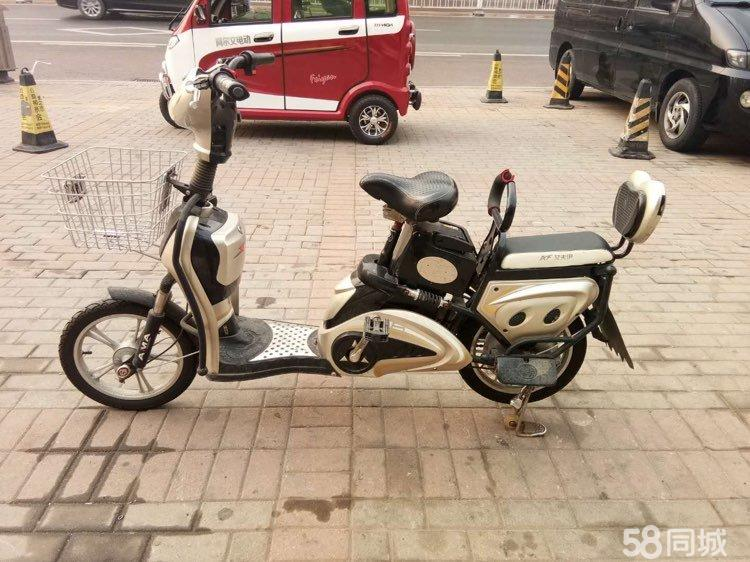电动车: (25, 42, 681, 454)
